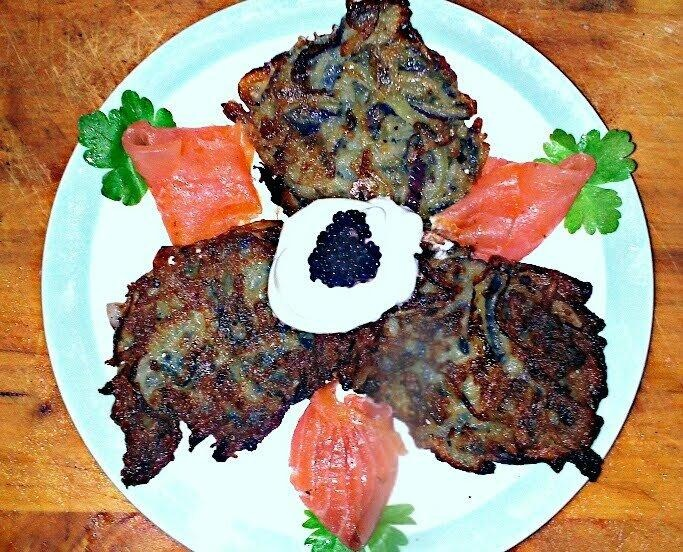background: (81, 0, 680, 476)
